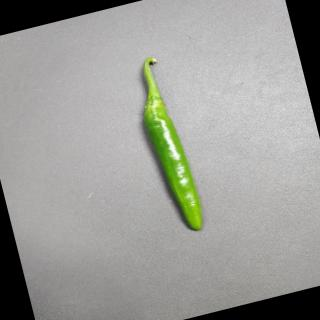Cabai Hijau: (129, 54, 208, 238)
